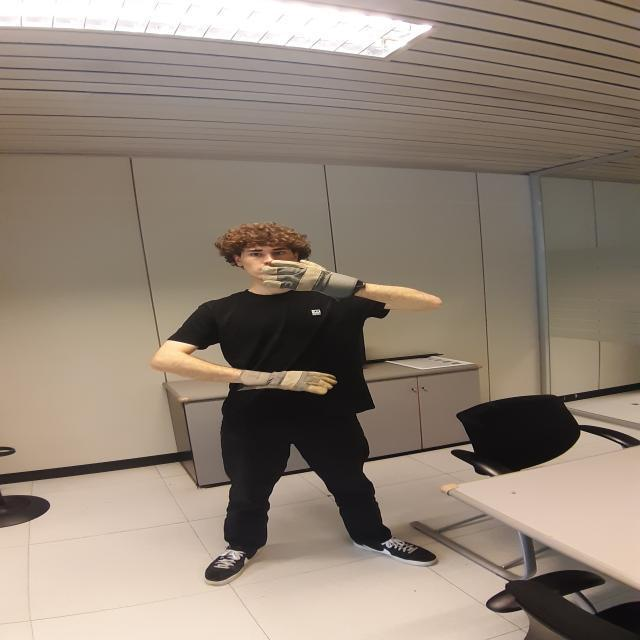gloved_hand: (258, 259, 367, 301), (232, 363, 338, 397)
